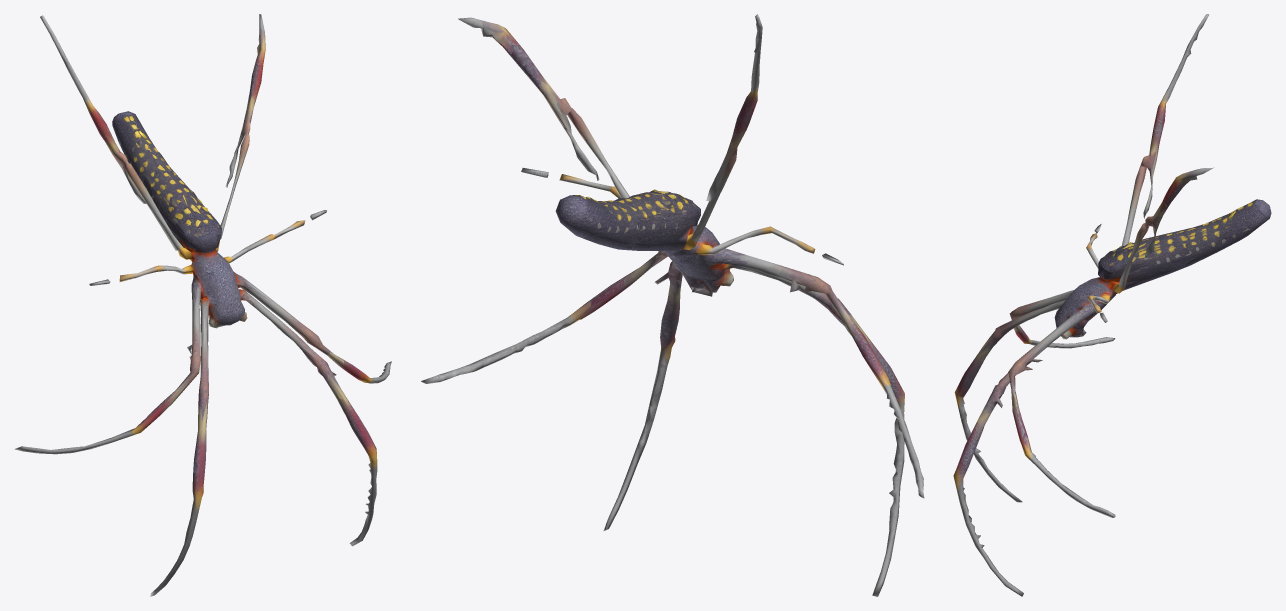
The model's file is arana.glb.
The picture shows the model from 3 angles, left to right: view 1: azimuth 30°, elevation 25°; view 2: azimuth 150°, elevation 25°; view 3: azimuth 270°, elevation 25°; orthographic projection. The views are drawn at different scales.
Parts seen in each view (by area): view 1: tripo_node_aa9d2551; view 2: tripo_node_aa9d2551; view 3: tripo_node_aa9d2551.
Part boxes in pixels (box(x1,y1,x2,y2)): tripo_node_aa9d2551: box(14, 14, 391, 596); tripo_node_aa9d2551: box(421, 14, 924, 596); tripo_node_aa9d2551: box(953, 14, 1271, 596).
Size of the model in its own units: 0.8803 by 1.14 by 0.6766.
Materials: 1 (1 with a texture image).
